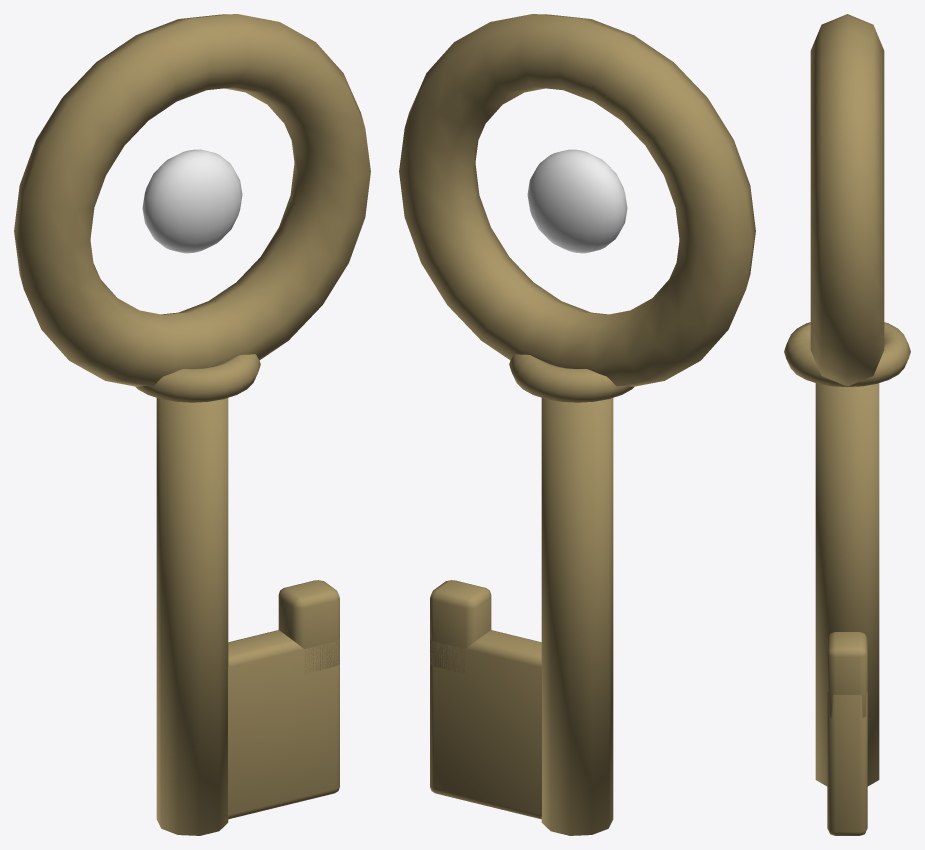
Rendered from key.glb.
3 renders of one model, left to right at view 1: azimuth 30°, elevation 25°; view 2: azimuth 150°, elevation 25°; view 3: azimuth 270°, elevation 25°, orthographic. The views are drawn at different scales.
Visible parts, largest first — view 1: Bow, Shank, Bit, BowGem, Ward, Collar; view 2: Bow, Shank, Bit, BowGem, Ward, Collar; view 3: Bow, Shank, Bit, Collar, Ward.
Boxes of the visible parts, bbox=[...] form: Bow: bbox=[14, 14, 370, 386]; Shank: bbox=[156, 398, 228, 835]; Bit: bbox=[228, 630, 339, 819]; BowGem: bbox=[142, 149, 242, 253]; Ward: bbox=[278, 580, 339, 672]; Collar: bbox=[135, 354, 260, 402]; Bow: bbox=[399, 14, 755, 386]; Shank: bbox=[541, 398, 613, 835]; Bit: bbox=[430, 630, 541, 819]; BowGem: bbox=[527, 149, 627, 253]; Ward: bbox=[430, 580, 491, 673]; Collar: bbox=[509, 354, 634, 402]; Bow: bbox=[810, 14, 884, 386]; Shank: bbox=[815, 383, 879, 786]; Bit: bbox=[827, 692, 867, 835]; Collar: bbox=[784, 322, 910, 387]; Ward: bbox=[827, 632, 867, 717].
Size of the model in its own units: 0.224 by 0.492 by 0.076.
